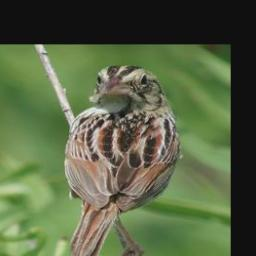Sparrow: (66, 63, 183, 256)
